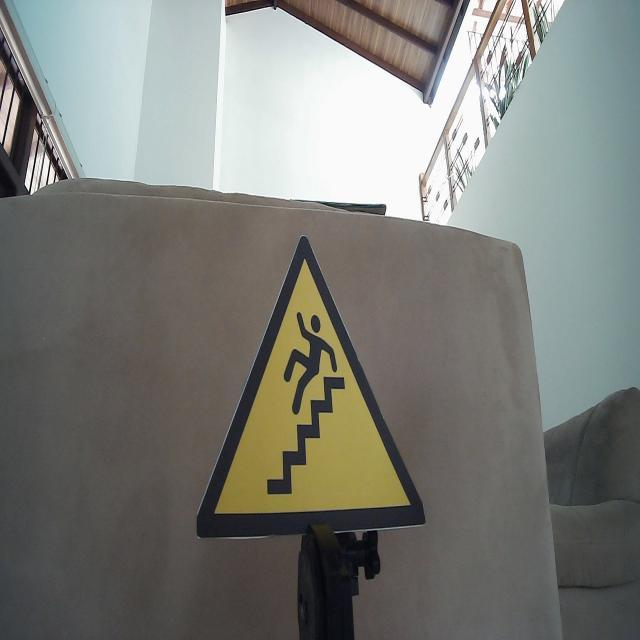stairs: (195, 232, 428, 541)
